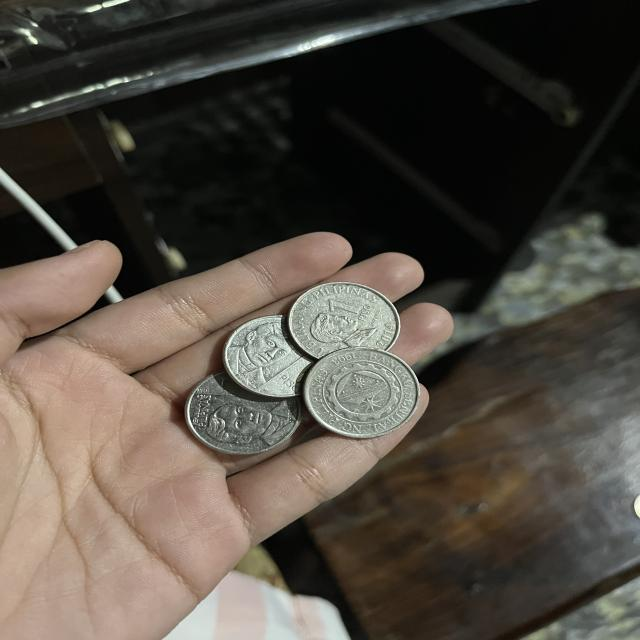1_New_Front: (198, 379, 286, 444), (236, 322, 304, 394)
1_Old_Back: (321, 358, 400, 428)
1_Old_Front: (308, 295, 380, 351)
